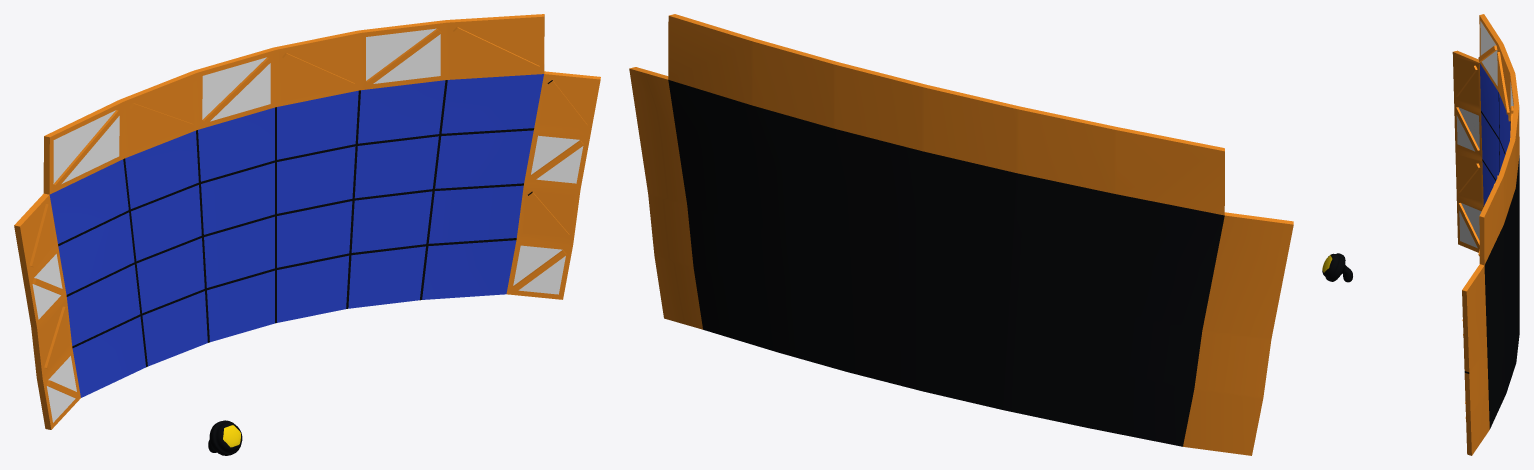
File: screen.FBX
3 views of the same model, side by side, from view 1: azimuth 30°, elevation 25°; view 2: azimuth 150°, elevation 25°; view 3: azimuth 270°, elevation 25° (orthographic). The views are drawn at different scales.
Visible parts, largest first — view 1: Box001, Cylinder001; view 2: Box001; view 3: Box001, Cylinder001.
Boxes of the visible parts, x1=… form: Box001: x1=14, y1=14, x2=600, y2=429; Cylinder001: x1=208, y1=420, x2=242, y2=455; Box001: x1=629, y1=14, x2=1293, y2=455; Box001: x1=1452, y1=14, x2=1519, y2=455; Cylinder001: x1=1322, y1=253, x2=1352, y2=282.
Size of the model in its own units: 114 by 54.02 by 39.61.
